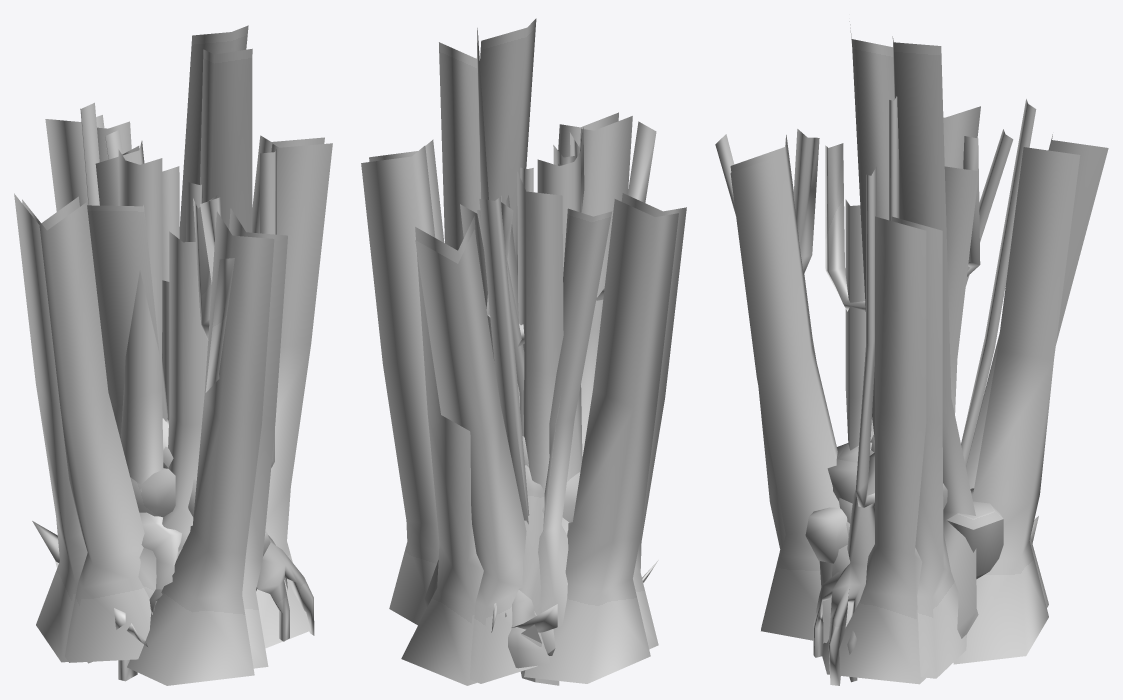
File: Scenery.glb
3 renders of one model, left to right at view 1: azimuth 30°, elevation 25°; view 2: azimuth 150°, elevation 25°; view 3: azimuth 270°, elevation 25°, orthographic. The views are drawn at different scales.
Parts seen in each view (by area): view 1: treeJumpUpHorz, treeTripRightVert, treeJumpLeftVert, treeSlideHorz, treeJumpRightVert, treeSlideVert, treeAlone4, treeSlideCliffVert, treeTripUpHorz, overgrowthTrees, treeSlideCliffHorz, treeTripDownHorz (+6 smaller); view 2: treeJumpRightVert, treeTripDownHorz, treeTripLeftVert, treeJumpDownHorz, treeAlone4, treeAlone2, overgrowthTrees, treeSlideCliffVert, treeSlideCliffHorz, treeJumpUpHorz, cliff, treeTripRightVert (+6 smaller); view 3: treeJumpDownHorz, treeTripUpHorz, treeJumpLeftVert, treeSlideCliffHorz, overgrowthTrees, treeTripLeftVert, treeSlideCliffVert, treeAlone3, treeTripDownHorz, treeAlone, treeSlideVert, cliff2 (+4 smaller).
Boxes of the visible parts, bbox=[...] form: treeJumpUpHorz: bbox=[127, 211, 274, 685]; treeTripRightVert: bbox=[22, 199, 151, 662]; treeJumpLeftVert: bbox=[256, 143, 332, 648]; treeSlideHorz: bbox=[118, 149, 181, 604]; treeJumpRightVert: bbox=[14, 193, 87, 662]; treeSlideVert: bbox=[138, 231, 207, 598]; treeAlone4: bbox=[87, 205, 168, 663]; treeSlideCliffVert: bbox=[149, 48, 252, 613]; treeTripUpHorz: bbox=[229, 208, 287, 668]; overgrowthTrees: bbox=[55, 102, 234, 647]; treeSlideCliffHorz: bbox=[179, 25, 314, 641]; treeTripDownHorz: bbox=[45, 115, 104, 211]; treeJumpRightVert: bbox=[524, 199, 678, 683]; treeTripDownHorz: bbox=[415, 229, 537, 683]; treeTripLeftVert: bbox=[361, 145, 439, 625]; treeJumpDownHorz: bbox=[401, 216, 483, 685]; treeAlone4: bbox=[538, 208, 612, 626]; treeAlone2: bbox=[517, 171, 563, 685]; overgrowthTrees: bbox=[479, 121, 658, 646]; treeSlideCliffVert: bbox=[479, 18, 536, 274]; treeSlideCliffHorz: bbox=[425, 28, 488, 608]; treeJumpUpHorz: bbox=[580, 116, 632, 456]; cliff: bbox=[508, 436, 582, 668]; treeTripRightVert: bbox=[621, 193, 686, 649]; treeJumpDownHorz: bbox=[953, 147, 1080, 664]; treeTripUpHorz: bbox=[730, 142, 839, 642]; treeJumpLeftVert: bbox=[822, 216, 926, 684]; treeSlideCliffHorz: bbox=[813, 36, 978, 685]; overgrowthTrees: bbox=[715, 96, 1036, 466]; treeTripLeftVert: bbox=[891, 216, 966, 678]; treeSlideCliffVert: bbox=[849, 21, 894, 439]; treeAlone3: bbox=[855, 129, 1013, 507]; treeTripDownHorz: bbox=[966, 134, 1108, 607]; treeAlone: bbox=[944, 166, 978, 414]; treeSlideVert: bbox=[845, 199, 873, 450]; cliff2: bbox=[805, 498, 852, 600].
Size of the model in its own units: 12.35 by 25.59 by 13.85.
Materials: 4 (4 with a texture image).
